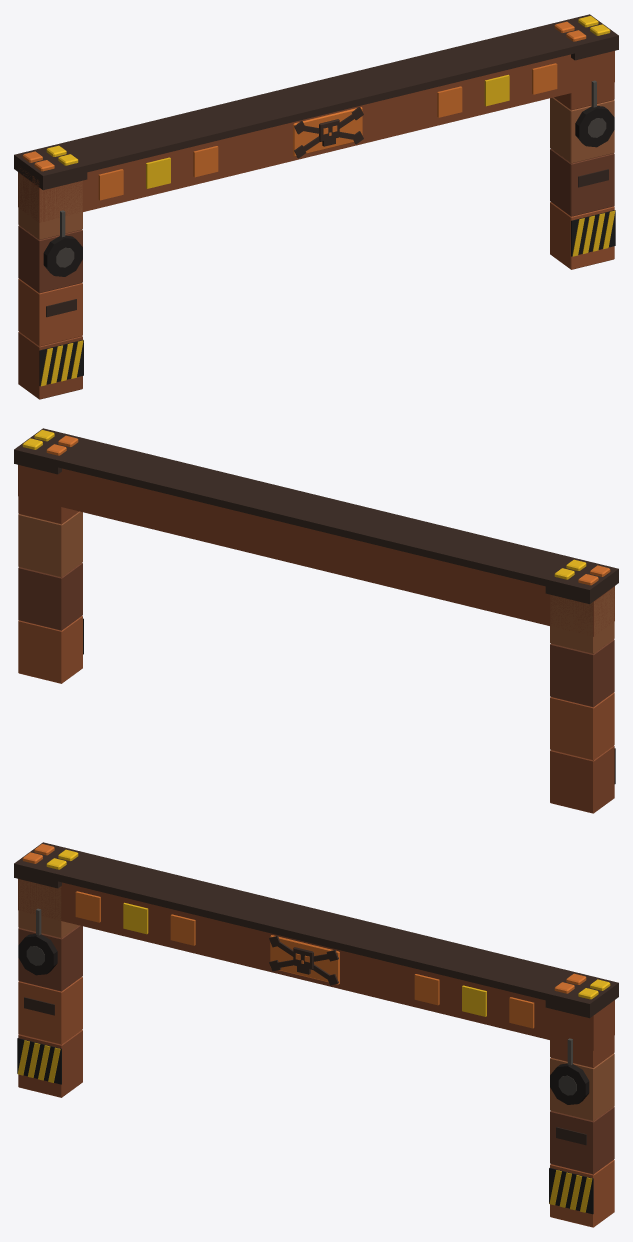
The model's file is miniarena_entrance.glb.
3 renders of one model, top to bottom at view 1: azimuth 30°, elevation 25°; view 2: azimuth 150°, elevation 25°; view 3: azimuth 330°, elevation 25°, orthographic.
Parts seen in each view (by area): view 1: miniarena_entrance; view 2: miniarena_entrance; view 3: miniarena_entrance.
Boxes of the visible parts, x1,y1,x2,y2 form: miniarena_entrance: (14, 14, 618, 399); miniarena_entrance: (14, 428, 618, 813); miniarena_entrance: (14, 842, 618, 1227).
Size of the model in its own units: 17 by 6.5 by 1.5.
1 material, 1 textured.
